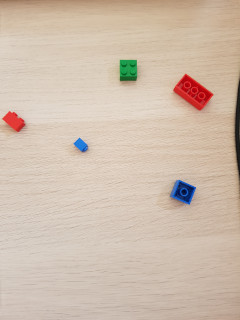1x1 blue: (73, 138, 89, 153)
1x2 red: (2, 110, 26, 133)
2x2 blue: (171, 180, 195, 206)
2x2 green: (119, 59, 138, 81)
2x4 red: (172, 73, 215, 112)
